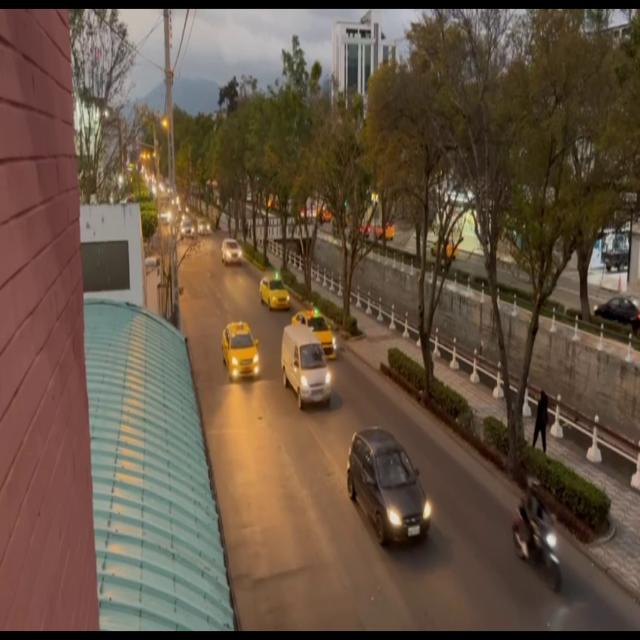MOTORCYCLE: (511, 506, 561, 597)
SED: (348, 427, 437, 549), (222, 322, 258, 380), (262, 272, 292, 310)
SUV: (221, 236, 243, 268)
